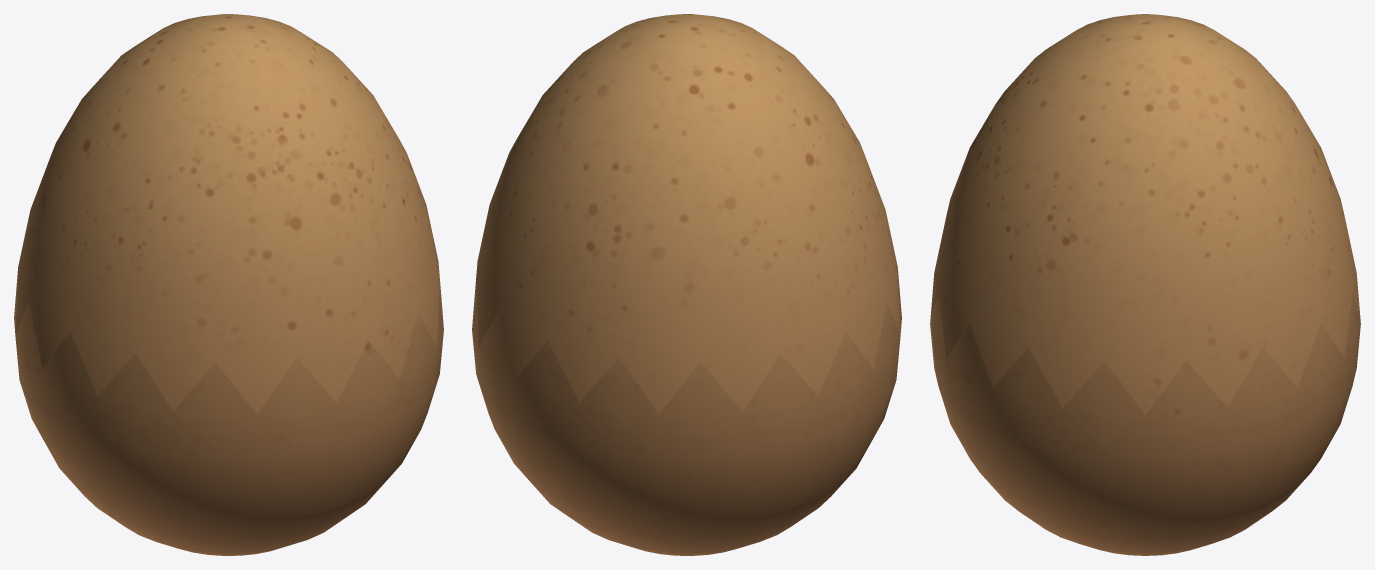
The model's file is egg_soft&hardedge.fbx.
3 views of the same model, side by side, from view 1: azimuth 30°, elevation 25°; view 2: azimuth 150°, elevation 25°; view 3: azimuth 270°, elevation 25° (orthographic).
Parts seen in each view (by area): view 1: egg1; view 2: egg1; view 3: egg1.
Boxes of the visible parts, box(x1,y1,x2,y2) form: egg1: box(14, 14, 443, 555); egg1: box(472, 14, 901, 555); egg1: box(930, 14, 1360, 555).
Bounding box in the file's own units: 13.26 × 17.36 × 13.26.
1 material, 1 textured.
